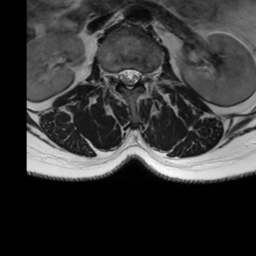CCS_normal: (125, 61, 134, 93)
LFS_stenosis: (143, 66, 150, 87)
LLS_normal: (133, 65, 142, 89)
RFS_stenosis: (110, 66, 117, 88)
RLS_normal: (118, 64, 125, 86)
